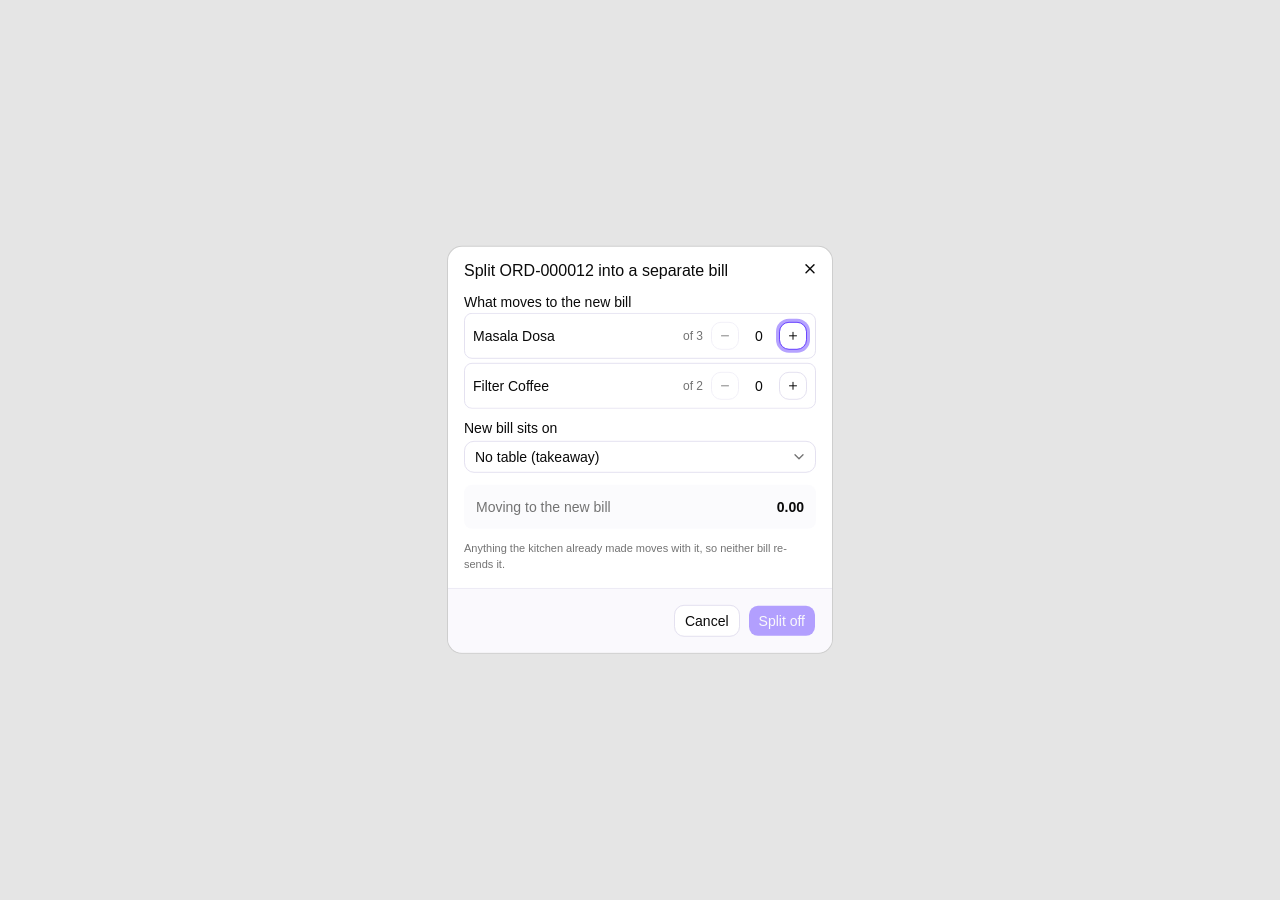
Scenario: SplitOrderDialog › blocks moving the entire order, which is a table transfer and not a split
This screenshot has width=1280, height=900.
Click the button named "move one more Masala Dosa" at (793, 336), box [779,322,807,350]
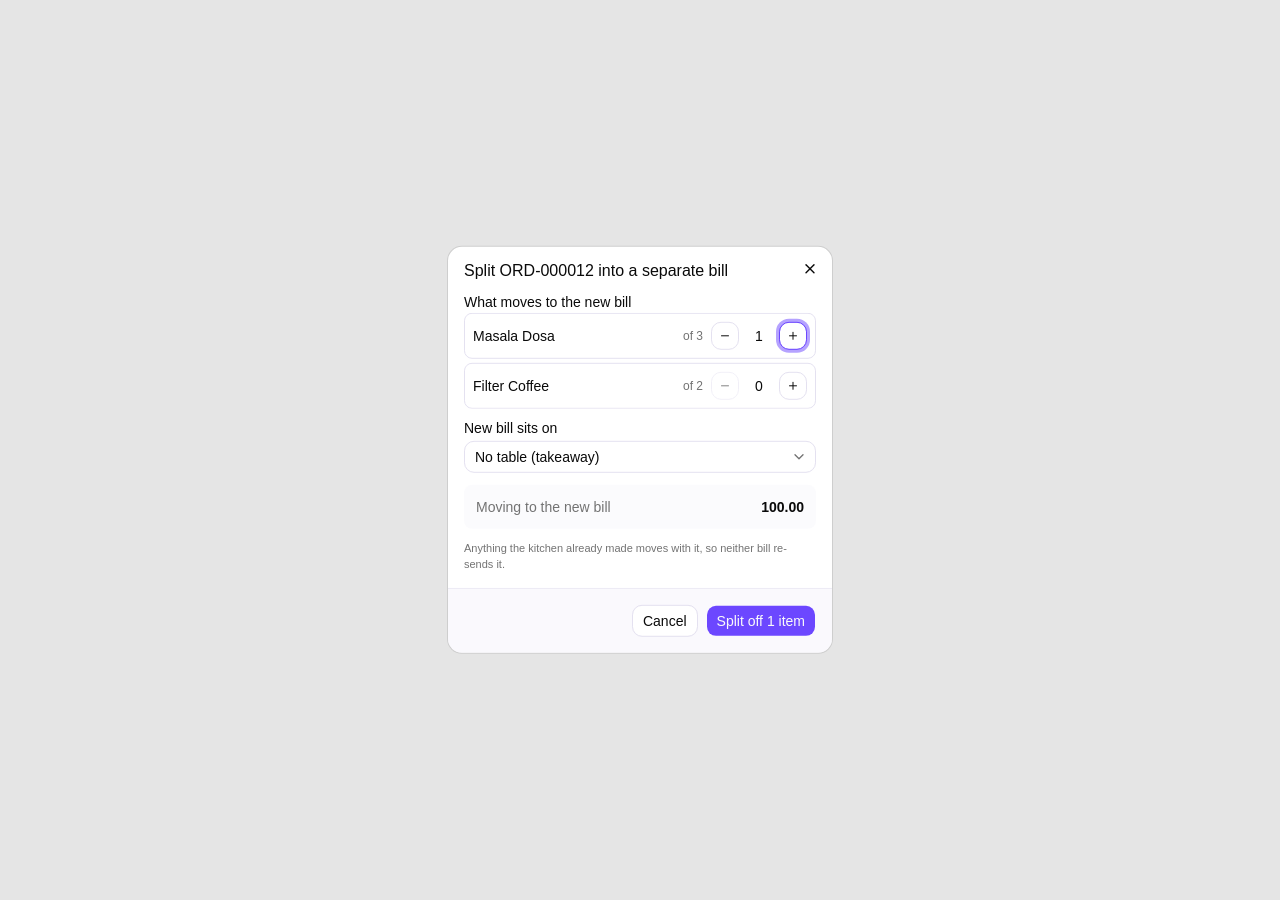
Click the button named "move one more Masala Dosa" at (793, 336), box [779,322,807,350]
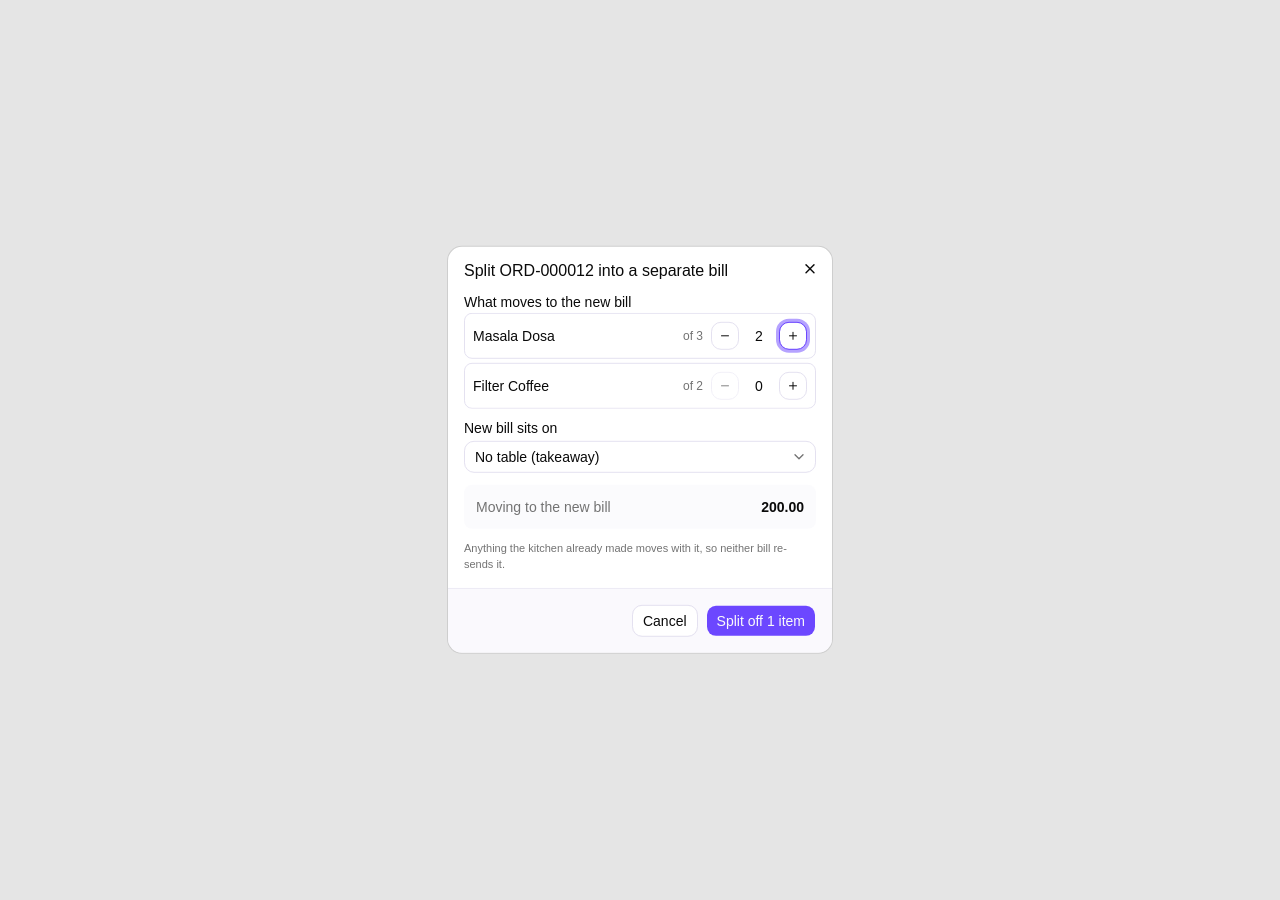
Click the button named "move one more Masala Dosa" at (793, 336), box [779,322,807,350]
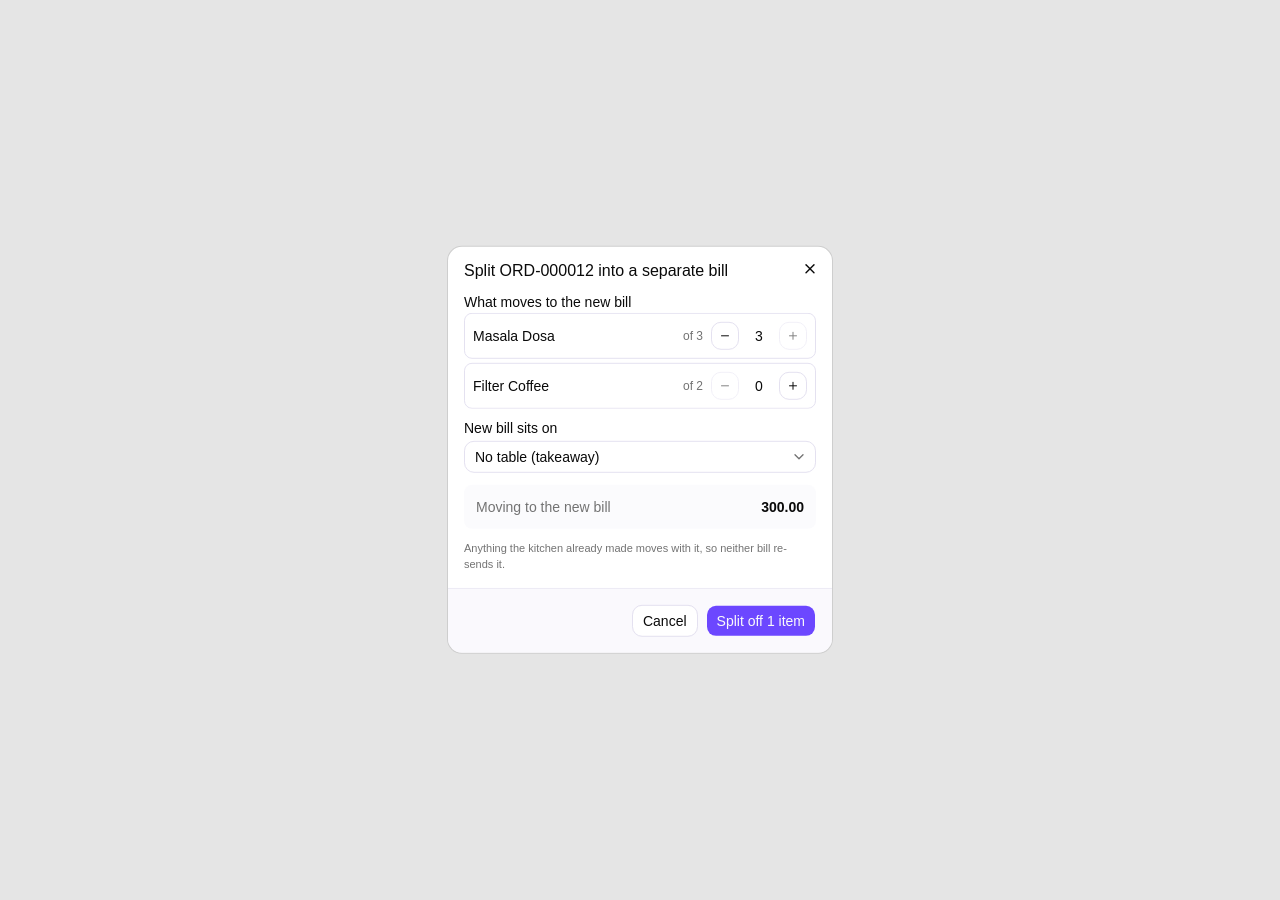
Click the button named "move one more Filter Coffee" at (793, 386), box [779,372,807,400]
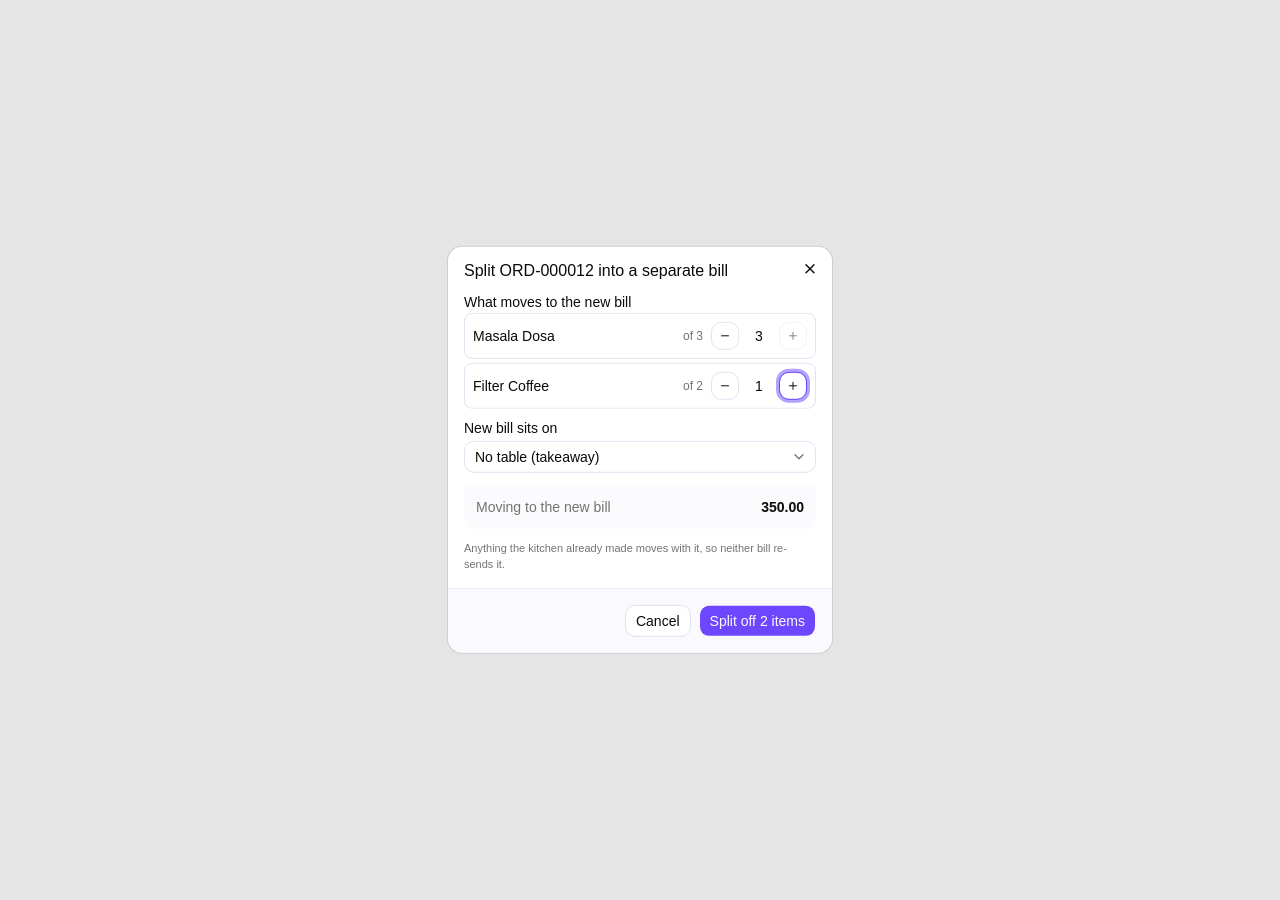
Click the button named "move one more Filter Coffee" at (793, 386), box [779,372,807,400]
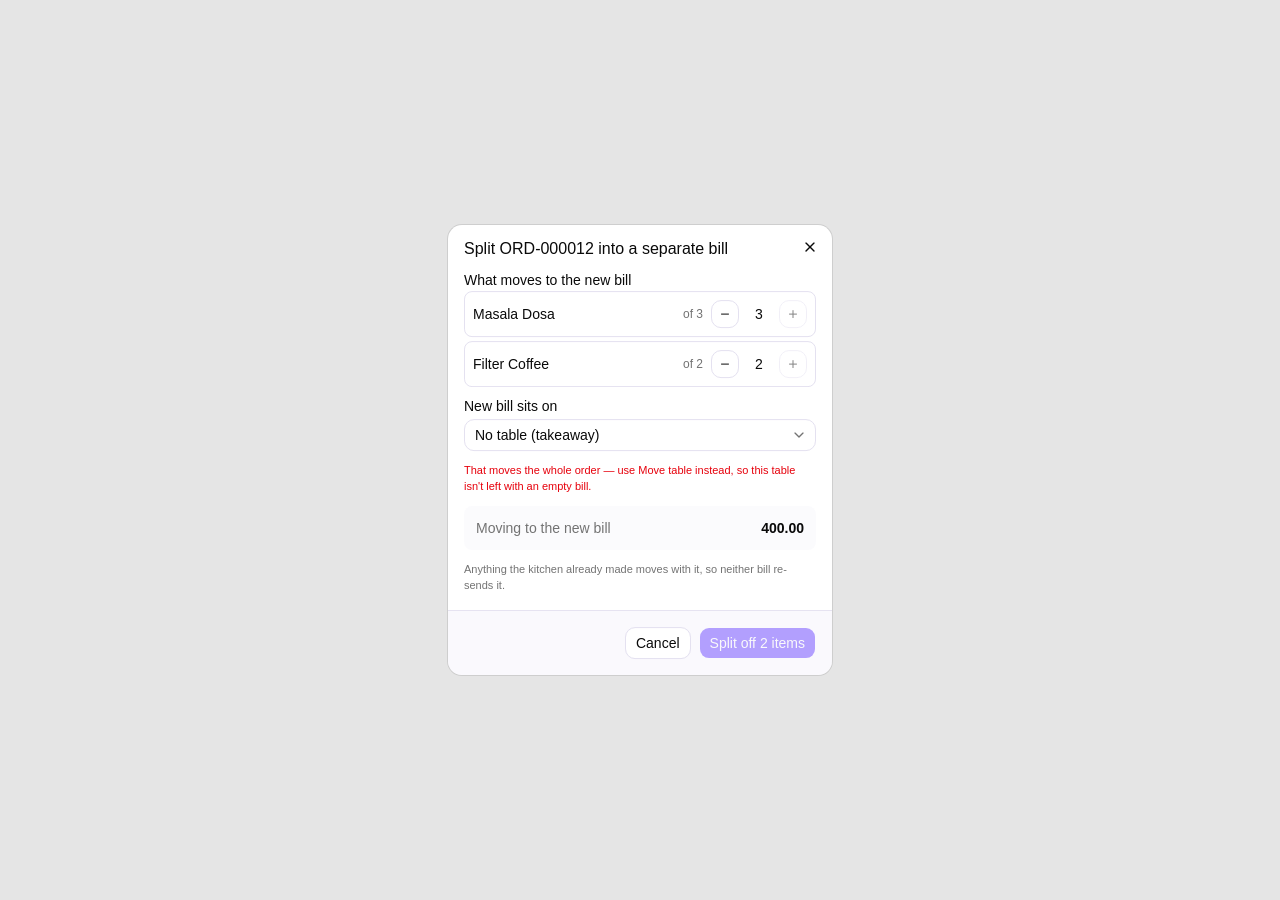
Check: the text "use Move table instead" is shown, box [464,464,795,492]
Check: the button "Split off 2 items" is disabled, box [698,627,816,659]
